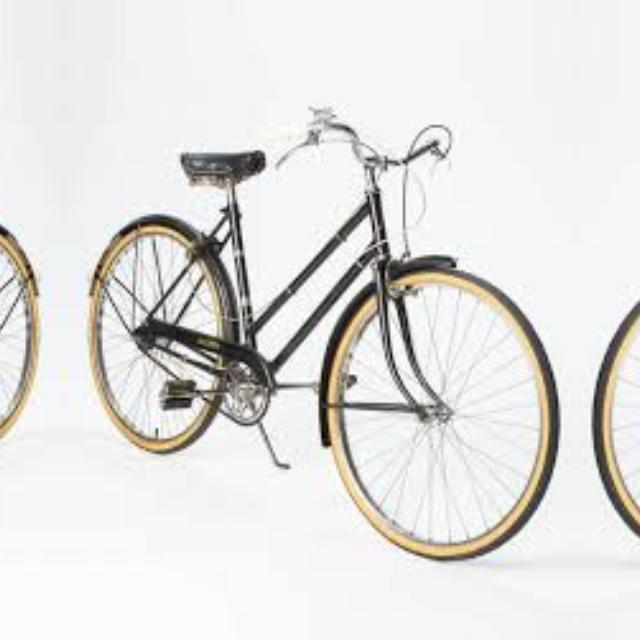obstacle: (87, 101, 568, 569), (583, 101, 640, 569), (0, 101, 39, 569)
